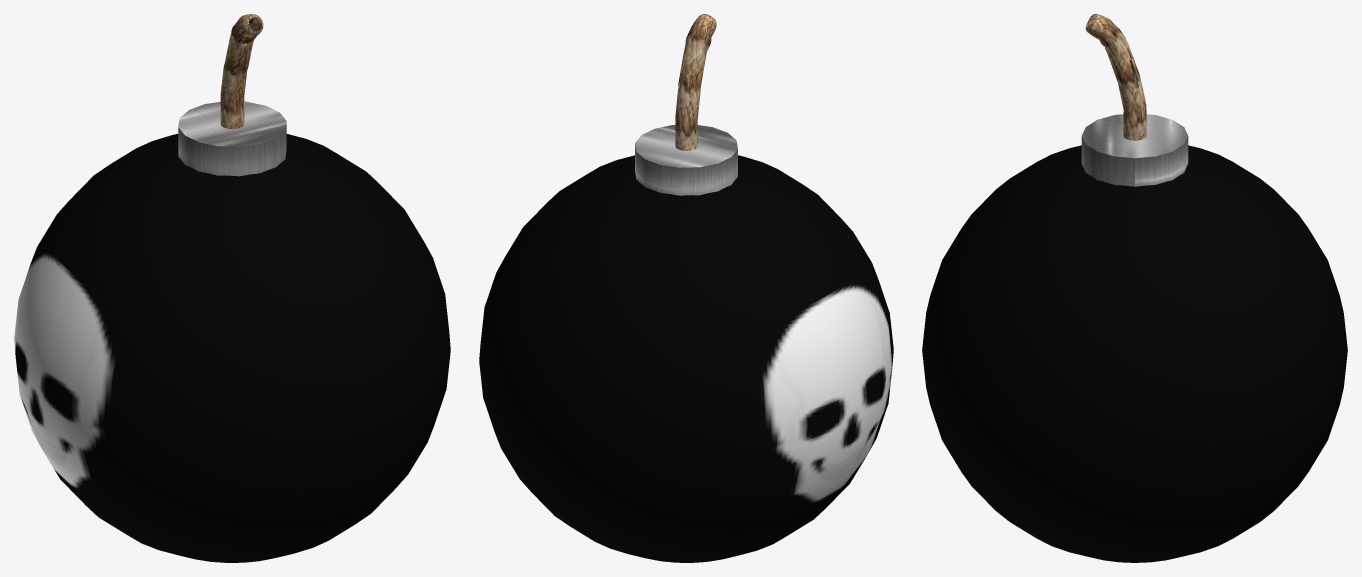
The model's file is bomb.fbx.
3 renders of one model, left to right at view 1: azimuth 30°, elevation 25°; view 2: azimuth 150°, elevation 25°; view 3: azimuth 270°, elevation 25°, orthographic. The views are drawn at different scales.
Visible parts, largest first — view 1: Sphere, Cylinder, Cylinder_1; view 2: Sphere, Cylinder, Cylinder_1; view 3: Sphere, Cylinder, Cylinder_1.
Boxes of the visible parts, <box> form: Sphere: <box>14,134,450,562</box>; Cylinder: <box>178,101,286,176</box>; Cylinder_1: <box>220,14,263,128</box>; Sphere: <box>479,155,893,562</box>; Cylinder: <box>635,125,737,195</box>; Cylinder_1: <box>675,14,716,150</box>; Sphere: <box>922,145,1347,562</box>; Cylinder: <box>1081,114,1188,186</box>; Cylinder_1: <box>1085,14,1146,140</box>.
Bounding box in the file's own units: 376 × 515 × 376.
3 materials, 3 textured.
